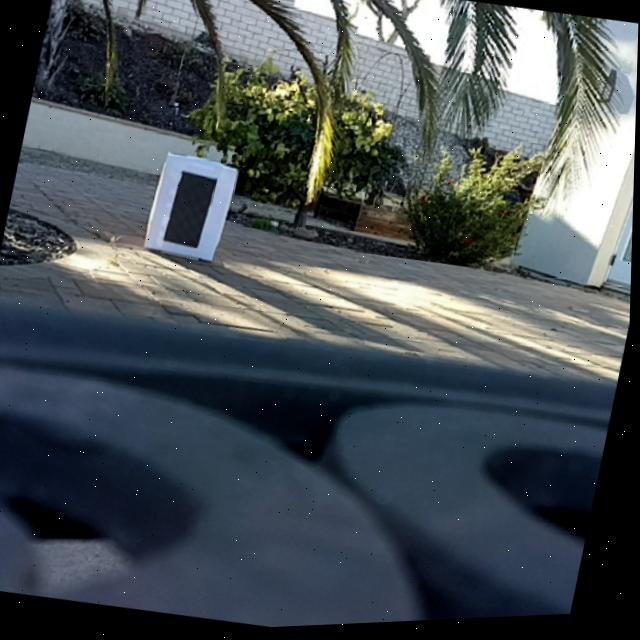led: (165, 171, 218, 252)
